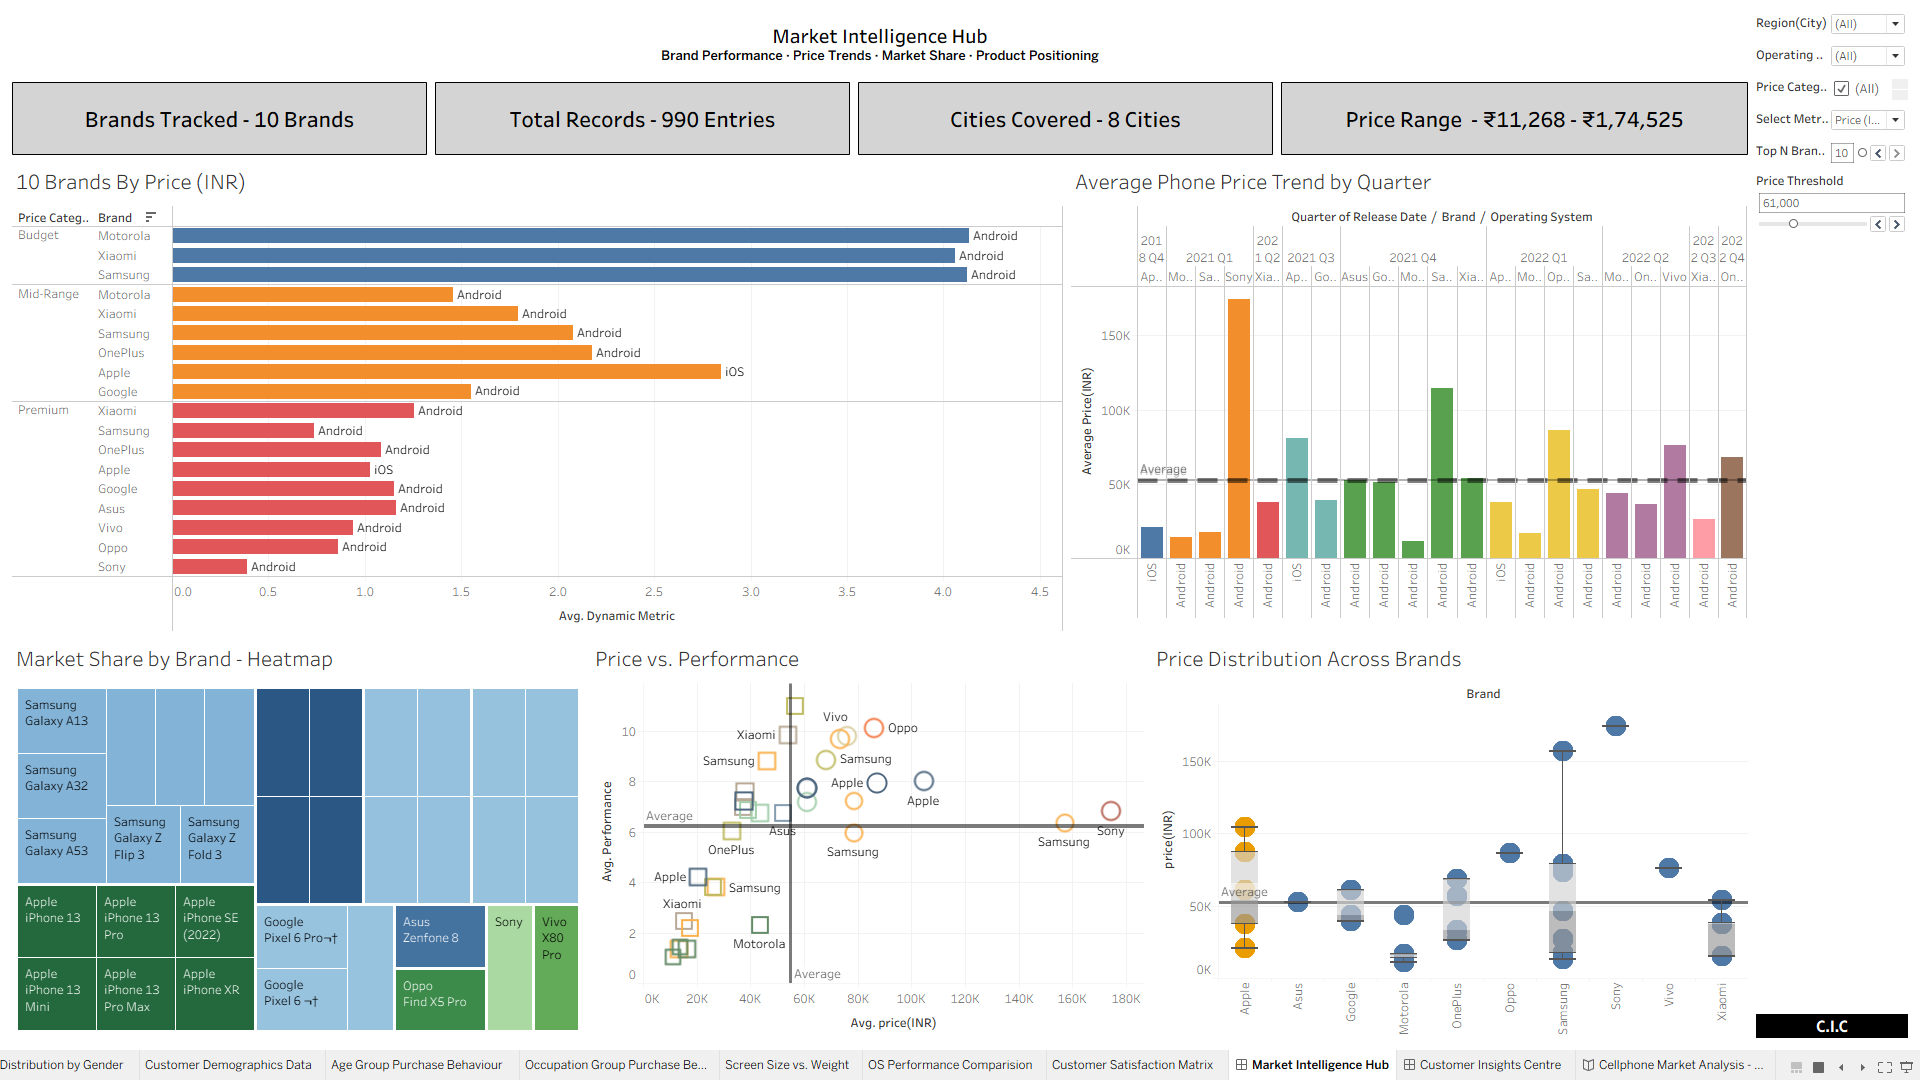

The dashboard page shown, as its layout file describes it:
{"tool":"tableau","page":{"name":"Market Intelligence Hub","canvas":[1000,1000],"units":"permille","ordinal":1},"visuals":[{"type":"text","box":[3.8,6.5,915.9,56.4]},{"type":"filter","title":"Dynamic Brand Ranking","param":"[federated.0lxe4e513q8cq216eywbx13yrfp5].[none:Region(City):nk]","box":[919.7,6.5,76.5,40.1]},{"type":"filter","title":"Dynamic Brand Ranking","param":"[federated.0lxe4e513q8cq216eywbx13yrfp5].[attr:operating system:nk]","box":[919.7,46.6,76.5,40.1]},{"type":"text","box":[3.8,62.9,222.8,65.3]},{"type":"text","box":[226.6,62.9,222.8,65.3]},{"type":"text","box":[449.3,62.9,222.8,65.3]},{"type":"text","box":[672.1,62.9,247.6,65.3]},{"type":"filter","title":"Dynamic Brand Ranking","param":"[federated.0lxe4e513q8cq216eywbx13yrfp5].[none:Calculation_0429849215541252:nk]","box":[919.7,86.8,76.5,40.1]},{"type":"parameter","param":"[Parameters].[Parameter 1]","box":[919.7,126.9,76.5,40.1]},{"type":"worksheet","title":"Dynamic Brand Ranking","mark":"Bar","rows":["Calculation_0429849215541252","brand"],"cols":["Calculation_0429849215918088"],"box":[3.8,128.1,506,477.6]},{"type":"worksheet","title":"Price Trend by Quarter","mark":"Bar","rows":["price(INR)"],"cols":["release date","brand","operating system"],"box":[509.8,128.1,409.9,477.6]},{"type":"parameter","param":"[Parameters].[Parameter 2]","box":[919.7,167.1,76.5,40.1]},{"type":"parameter","param":"[Parameters].[Parameter 3]","box":[919.7,207.2,76.5,746.2]},{"type":"worksheet","title":"Market Share by Brand - Heatmap","mark":"Square","box":[3.8,605.9,303.9,387.7]},{"type":"worksheet","title":"Price vs. Performance","mark":"Automatic","rows":["performance"],"cols":["price(INR)"],"box":[307.7,605.9,294.7,387.7]},{"type":"worksheet","title":"Price Distribution Across Brands","mark":"Circle","rows":["price(INR)"],"cols":["brand"],"box":[602.4,605.9,317.3,387.7]},{"type":"dashboard-object","box":[919.7,953.4,76.5,40.2]}]}

Visuals, with their boxes on the dashboard's canvas, which has no fixed pixel size, in thousandths of its width and height (x1, y1, x2, y2). These are canvas units, not pixel positions in the 1920x1080 screenshot, which may show the page scaled, cropped or inside an application window:
text: 4, 6, 920, 63
"Dynamic Brand Ranking" filter: 920, 6, 996, 47
"Dynamic Brand Ranking" filter: 920, 47, 996, 87
text: 4, 63, 227, 128
text: 227, 63, 449, 128
text: 449, 63, 672, 128
text: 672, 63, 920, 128
"Dynamic Brand Ranking" filter: 920, 87, 996, 127
parameter: 920, 127, 996, 167
"Dynamic Brand Ranking" worksheet (Bar marks): 4, 128, 510, 606
"Price Trend by Quarter" worksheet (Bar marks): 510, 128, 920, 606
parameter: 920, 167, 996, 207
parameter: 920, 207, 996, 953
"Market Share by Brand - Heatmap" worksheet (Square marks): 4, 606, 308, 994
"Price vs. Performance" worksheet: 308, 606, 602, 994
"Price Distribution Across Brands" worksheet (Circle marks): 602, 606, 920, 994
dashboard-object: 920, 953, 996, 994
